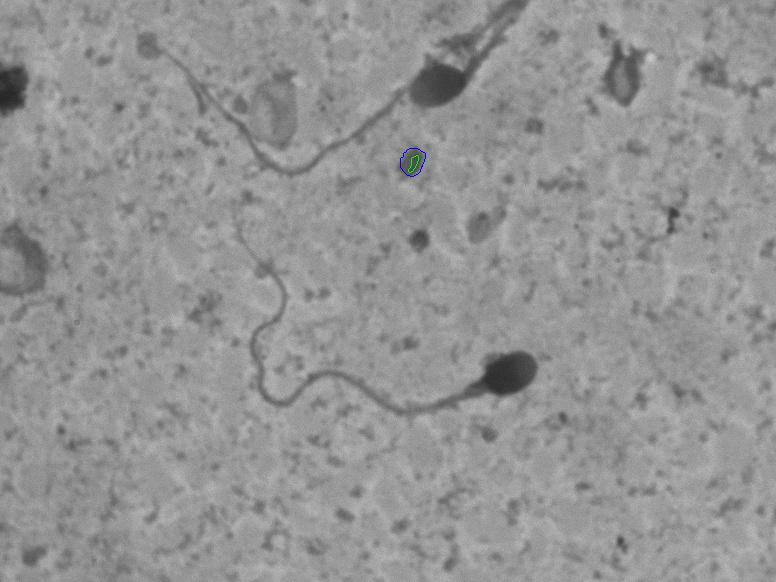Normal: (185, 171, 571, 443)
